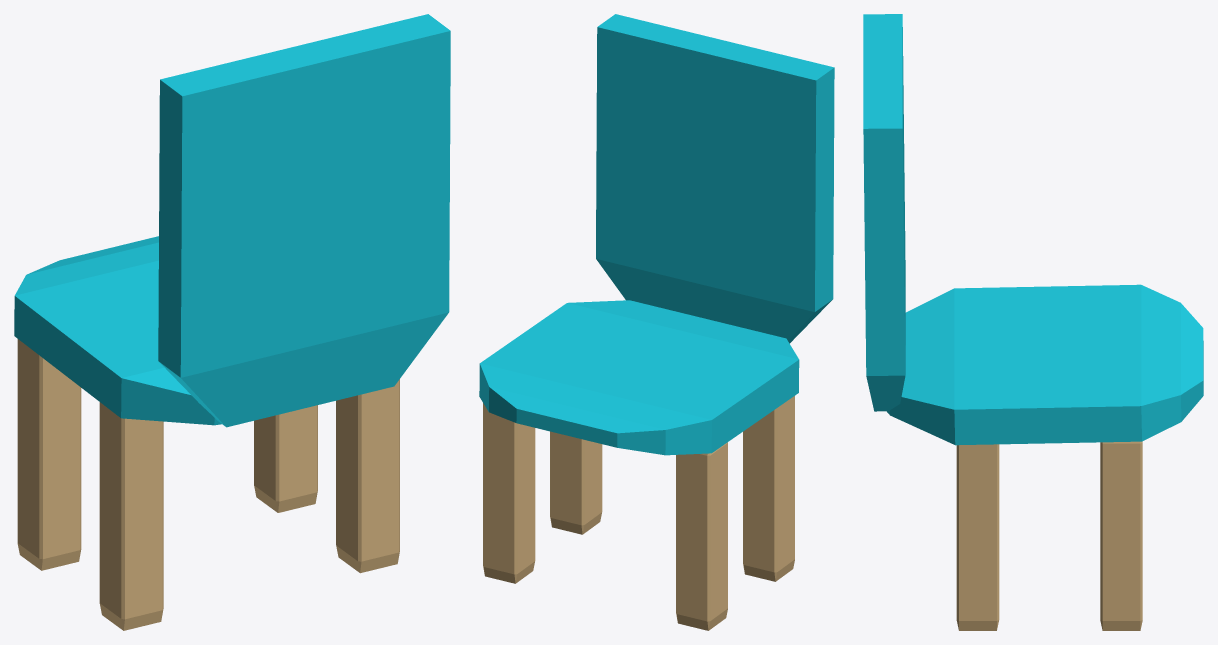
Rendered from chair2 1.fbx.
3 renders of one model, left to right at view 1: azimuth 30°, elevation 25°; view 2: azimuth 150°, elevation 25°; view 3: azimuth 270°, elevation 25°, orthographic. The views are drawn at different scales.
Visible parts, largest first — view 1: Cube.007, Cube.006, Cube.004; view 2: Cube.007, Cube.004, Cube.006; view 3: Cube.004, Cube.006, Cube.007.
Part boxes in pixels (<box>): Cube.007: <box>158,14,450,427</box>; Cube.006: <box>17,339,399,630</box>; Cube.004: <box>14,236,221,425</box>; Cube.007: <box>596,14,834,343</box>; Cube.004: <box>479,300,799,455</box>; Cube.006: <box>483,396,794,630</box>; Cube.004: <box>887,284,1203,445</box>; Cube.006: <box>956,441,1142,630</box>; Cube.007: <box>863,14,905,411</box>.
Size of the model in its own units: 1349 by 2600 by 1597.
